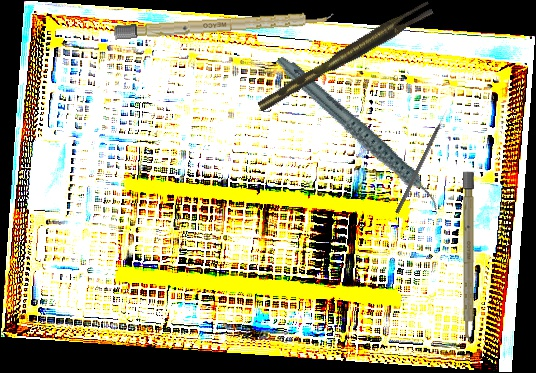Handpiece: (274, 30, 441, 239)
Hook Surgical: (395, 108, 450, 215)
Scalpel Handle: (113, 10, 335, 40), (463, 171, 474, 344)
Tissue Forceps: (252, 0, 437, 112)
